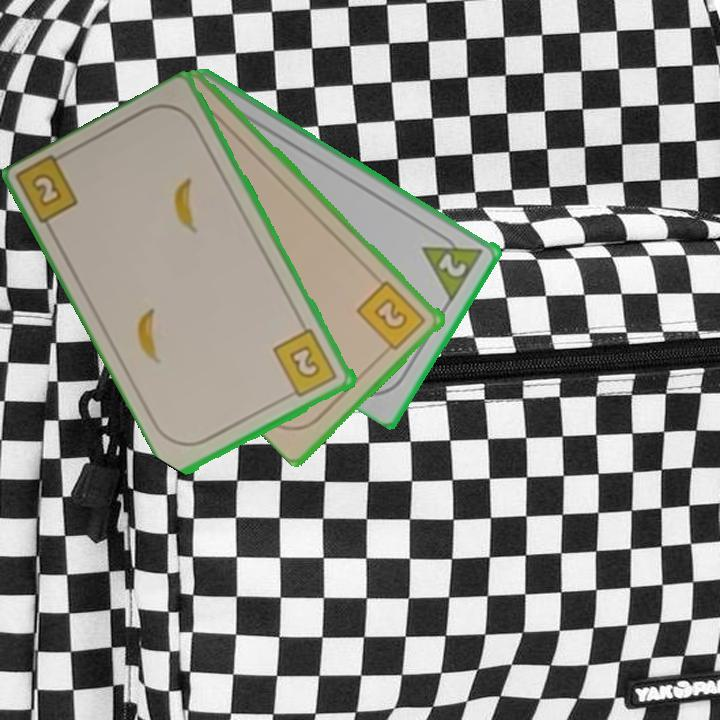2b: (354, 277, 429, 358), (270, 325, 341, 401), (28, 169, 66, 210)
2p: (419, 226, 487, 303)
